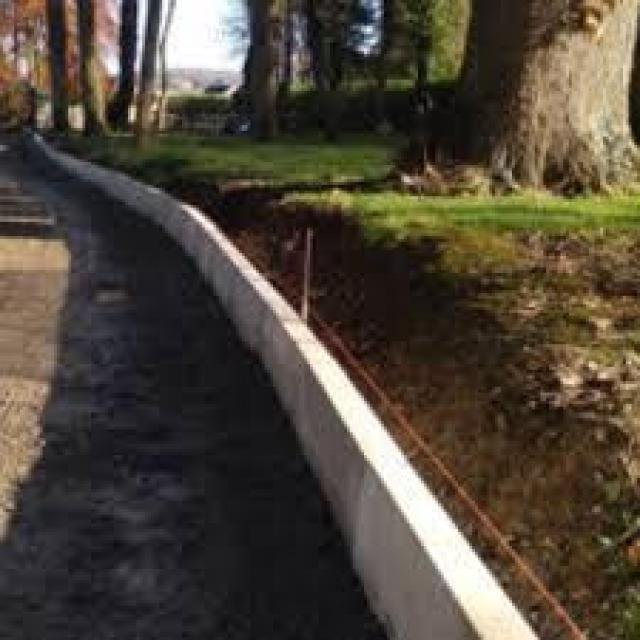curb: (356, 450, 545, 632), (296, 356, 393, 548), (264, 313, 335, 428)
